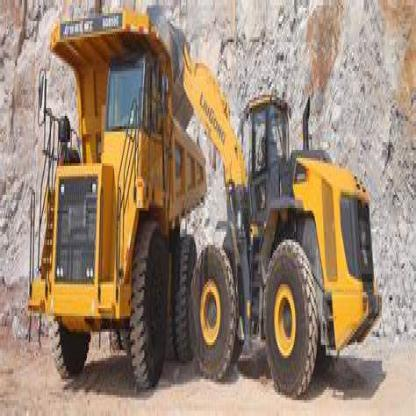bull_dozer/loader/grader: (168, 8, 394, 413)
dump_truck: (25, 5, 202, 387)
